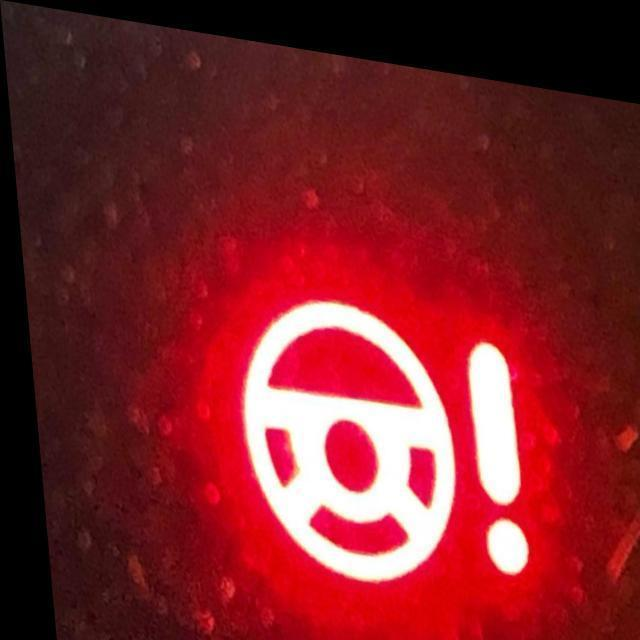Electronic Power Steering: (244, 297, 532, 584)
